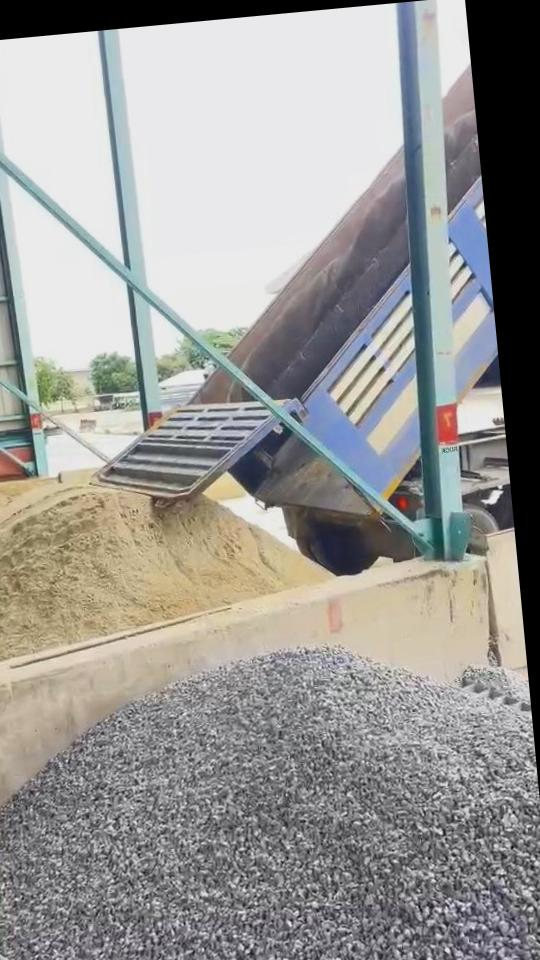gravel: (0, 648, 540, 960), (461, 666, 532, 712)
sand: (0, 486, 329, 666), (0, 478, 56, 540)
